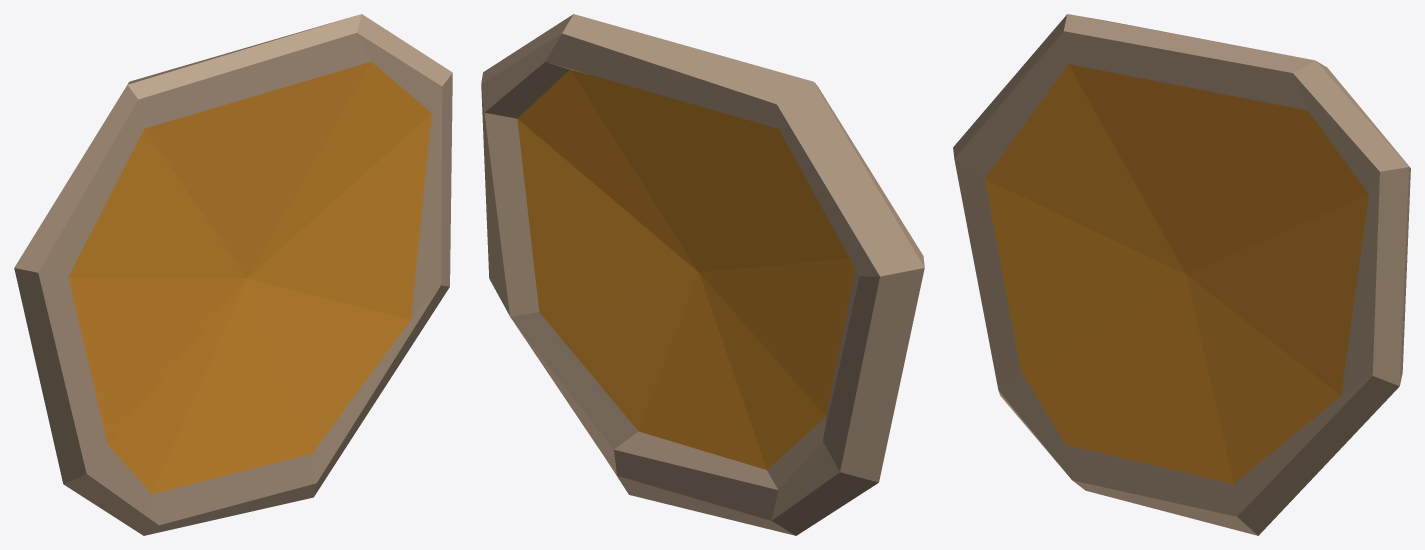
File: auraLARANJA2.fbx
The picture shows the model from 3 angles, left to right: view 1: azimuth 30°, elevation 25°; view 2: azimuth 150°, elevation 25°; view 3: azimuth 330°, elevation 25°; orthographic projection. The views are drawn at different scales.
Visible parts, largest first — view 1: Cube; view 2: Cube; view 3: Cube.
Boxes of the visible parts, x1,y1,x2,y2 form: Cube: [14, 14, 452, 535]; Cube: [481, 14, 924, 535]; Cube: [953, 14, 1410, 535].
Size of the model in its own units: 1820 by 1856 by 223.
